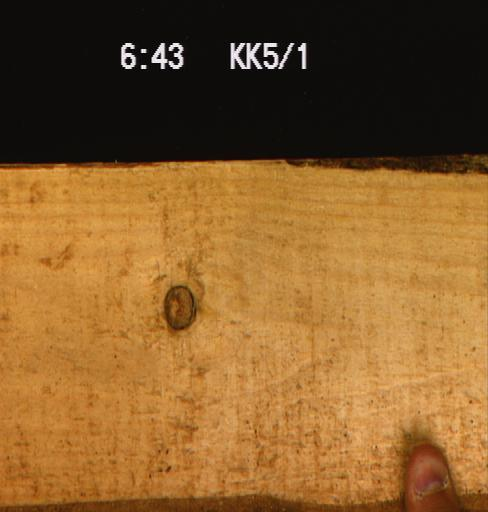dry_knot: (160, 283, 195, 332)
wave: (0, 153, 487, 172), (0, 492, 403, 511)
